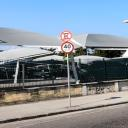speed_limit_40: (60, 42, 75, 54)
